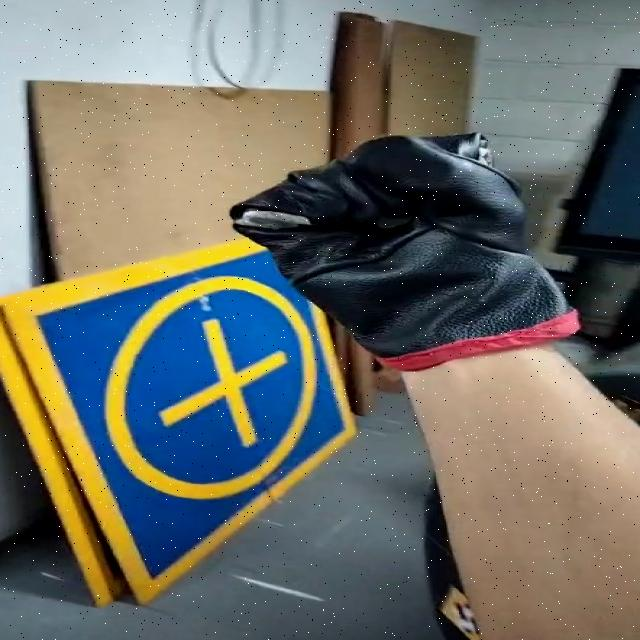Gloves: (232, 127, 582, 376)
